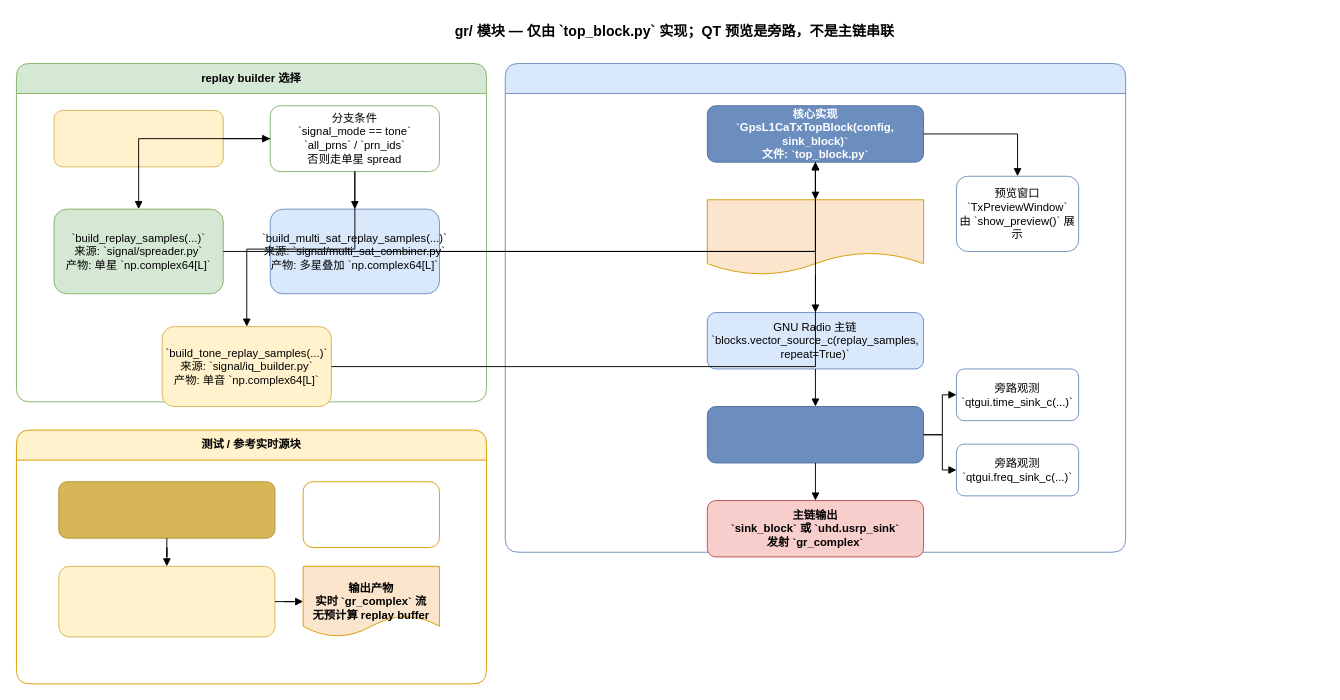
The diagram is 1340 pixels wide and 700 high, and some of its shapes have lost their labels. The shapes that lost their labels are listed below. From the top down, each one's box as (x1, y1, x2, y2) in pixels, then its label:
(53, 110, 223, 167): 输入配置 `TxBlockConfig` 可选注入: `sink_block`
(706, 199, 924, 275): 内部状态 `self.replay_samples: np.complex64[L]` 只会选择一条 builder 分支写入
(504, 63, 1126, 552): `GpsL1CaTxTopBlock` 主运行时
(706, 406, 924, 463): GNU Radio 主链 `blocks.multiply_const_cc(config.amplitude)`
(58, 481, 275, 538): 参考块 `GpsL1CaSourceBlock(gr.sync_block)` 文件仍是 `top_block.py`
(302, 481, 439, 548): 定位说明 它主要用于测试和理解状态机行为。 当前发射主运行时优先使用上面的 replay + `vector_source_c` 路径。
(58, 565, 275, 637): 内部实现 持有 `GpsL1CaBpskGenerator` `work()` 里实时调用 `generate_samples(N)`
